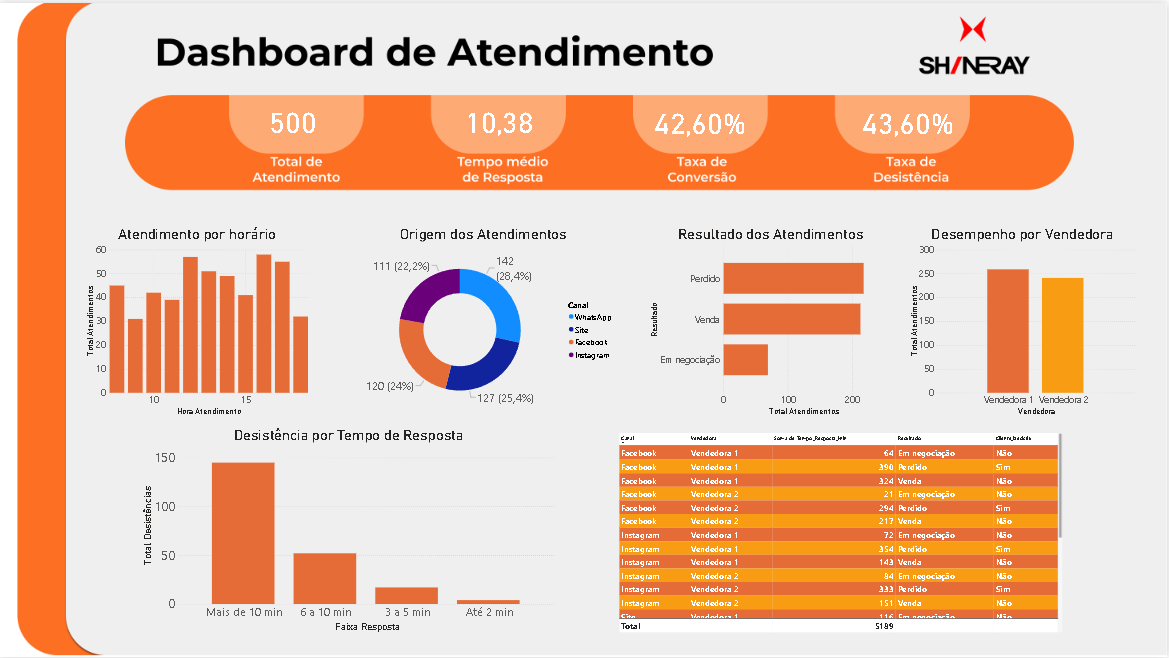

What the dashboard file says about the page in this screenshot:
{"tool":"powerbi","page":{"name":"Página 1","canvas":[2918,1636],"ordinal":0},"visuals":[{"type":"card","fields":{"Values":["Atendimentos_Shineray.Total Atendimentos"]},"box":[596,151,279,280],"z":0},{"type":"card","fields":{"Values":["Atendimentos_Shineray.Tempo Médio Resposta"]},"box":[1101,141,300,300],"z":1000},{"type":"card","fields":{"Values":["Atendimentos_Shineray.Taxa Conversão"]},"box":[1601.2,141.2,300,300],"z":2000},{"type":"card","fields":{"Values":["Atendimentos_Shineray.Taxa Desistência"]},"box":[2122,142,300,300],"z":3000},{"type":"clusteredColumnChart","title":"Atendimento por horário","fields":{"Category":["Atendimentos_Shineray.Hora Atendimento"],"Y":["Atendimentos_Shineray.Total Atendimentos"]},"box":[212.5,555,565,482.5],"z":4000},{"type":"donutChart","title":"Origem dos Atendimentos","fields":{"Y":["Atendimentos_Shineray.Total Atendimentos"],"Category":["Atendimentos_Shineray.Canal"]},"box":[877.5,555,667.5,482.5],"z":5000},{"type":"barChart","title":"Resultado dos Atendimentos","fields":{"Category":["Atendimentos_Shineray.Resultado"],"Y":["Atendimentos_Shineray.Total Atendimentos"]},"box":[1622.5,555,612.5,482.5],"z":6000},{"type":"columnChart","title":"Desempenho por Vendedora","fields":{"Category":["Atendimentos_Shineray.Vendedora"],"Y":["Atendimentos_Shineray.Total Atendimentos"]},"box":[2272.5,555,572.5,482.5],"z":7000},{"type":"clusteredColumnChart","title":"Desistência por Tempo de Resposta","fields":{"Category":["Atendimentos_Shineray.Faixa Resposta"],"Y":["Atendimentos_Shineray.Total Desistências"]},"box":[352.5,1057.5,1042.5,520],"z":8000},{"type":"tableEx","fields":{"Values":["Atendimentos_Shineray.Canal","Atendimentos_Shineray.Vendedora","Sum(Atendimentos_Shineray.Tempo_Resposta_Min)","Atendimentos_Shineray.Resultado","Atendimentos_Shineray.Cliente_Desistiu"]},"box":[1545,1070,1117.5,507.5],"z":9000}]}

Visuals, with their boxes in screenshot pixels (x1, y1, x2, y2), scaled from the page's 2918x1636 canvas onto the 1169x658 screenshot:
card - Atendimentos_Shineray.Total Atendimentos: locate(239, 61, 351, 173)
card - Atendimentos_Shineray.Tempo Médio Resposta: locate(441, 57, 561, 177)
card - Atendimentos_Shineray.Taxa Conversão: locate(641, 57, 762, 177)
card - Atendimentos_Shineray.Taxa Desistência: locate(850, 57, 970, 178)
"Atendimento por horário" clusteredColumnChart: locate(85, 223, 311, 417)
"Origem dos Atendimentos" donutChart: locate(352, 223, 619, 417)
"Resultado dos Atendimentos" barChart: locate(650, 223, 895, 417)
"Desempenho por Vendedora" columnChart: locate(910, 223, 1140, 417)
"Desistência por Tempo de Resposta" clusteredColumnChart: locate(141, 425, 559, 634)
tableEx - Atendimentos_Shineray.Canal x Atendimentos_Shineray.Vendedora: locate(619, 430, 1067, 634)
